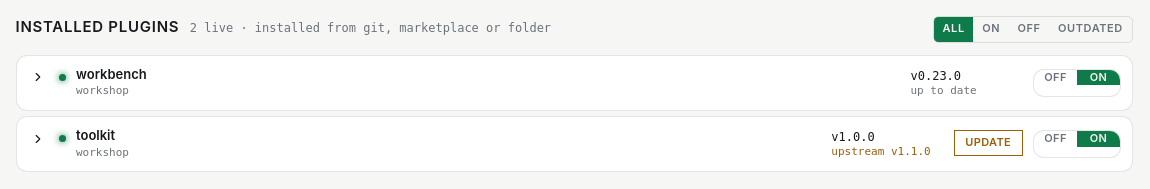
Test: ItemList › offers an Outdated chip that keeps only plugins behind their catalog
Click the button "outdated" at (1090, 29), box [1049, 17, 1132, 42]
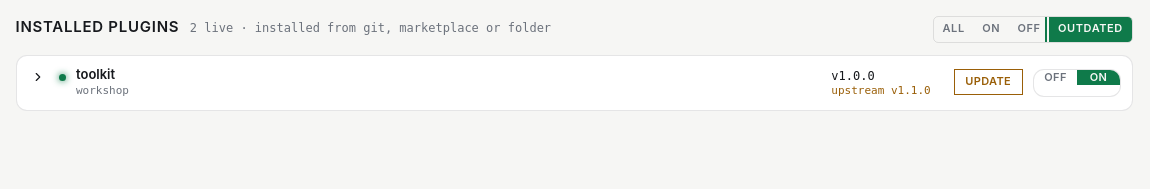
Expected: the text "toolkit" is shown, [76, 66, 115, 82]
Expected: the text "workbench" is gone
